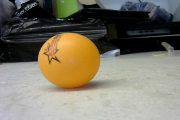PingPongBall: (38, 32, 100, 89)
